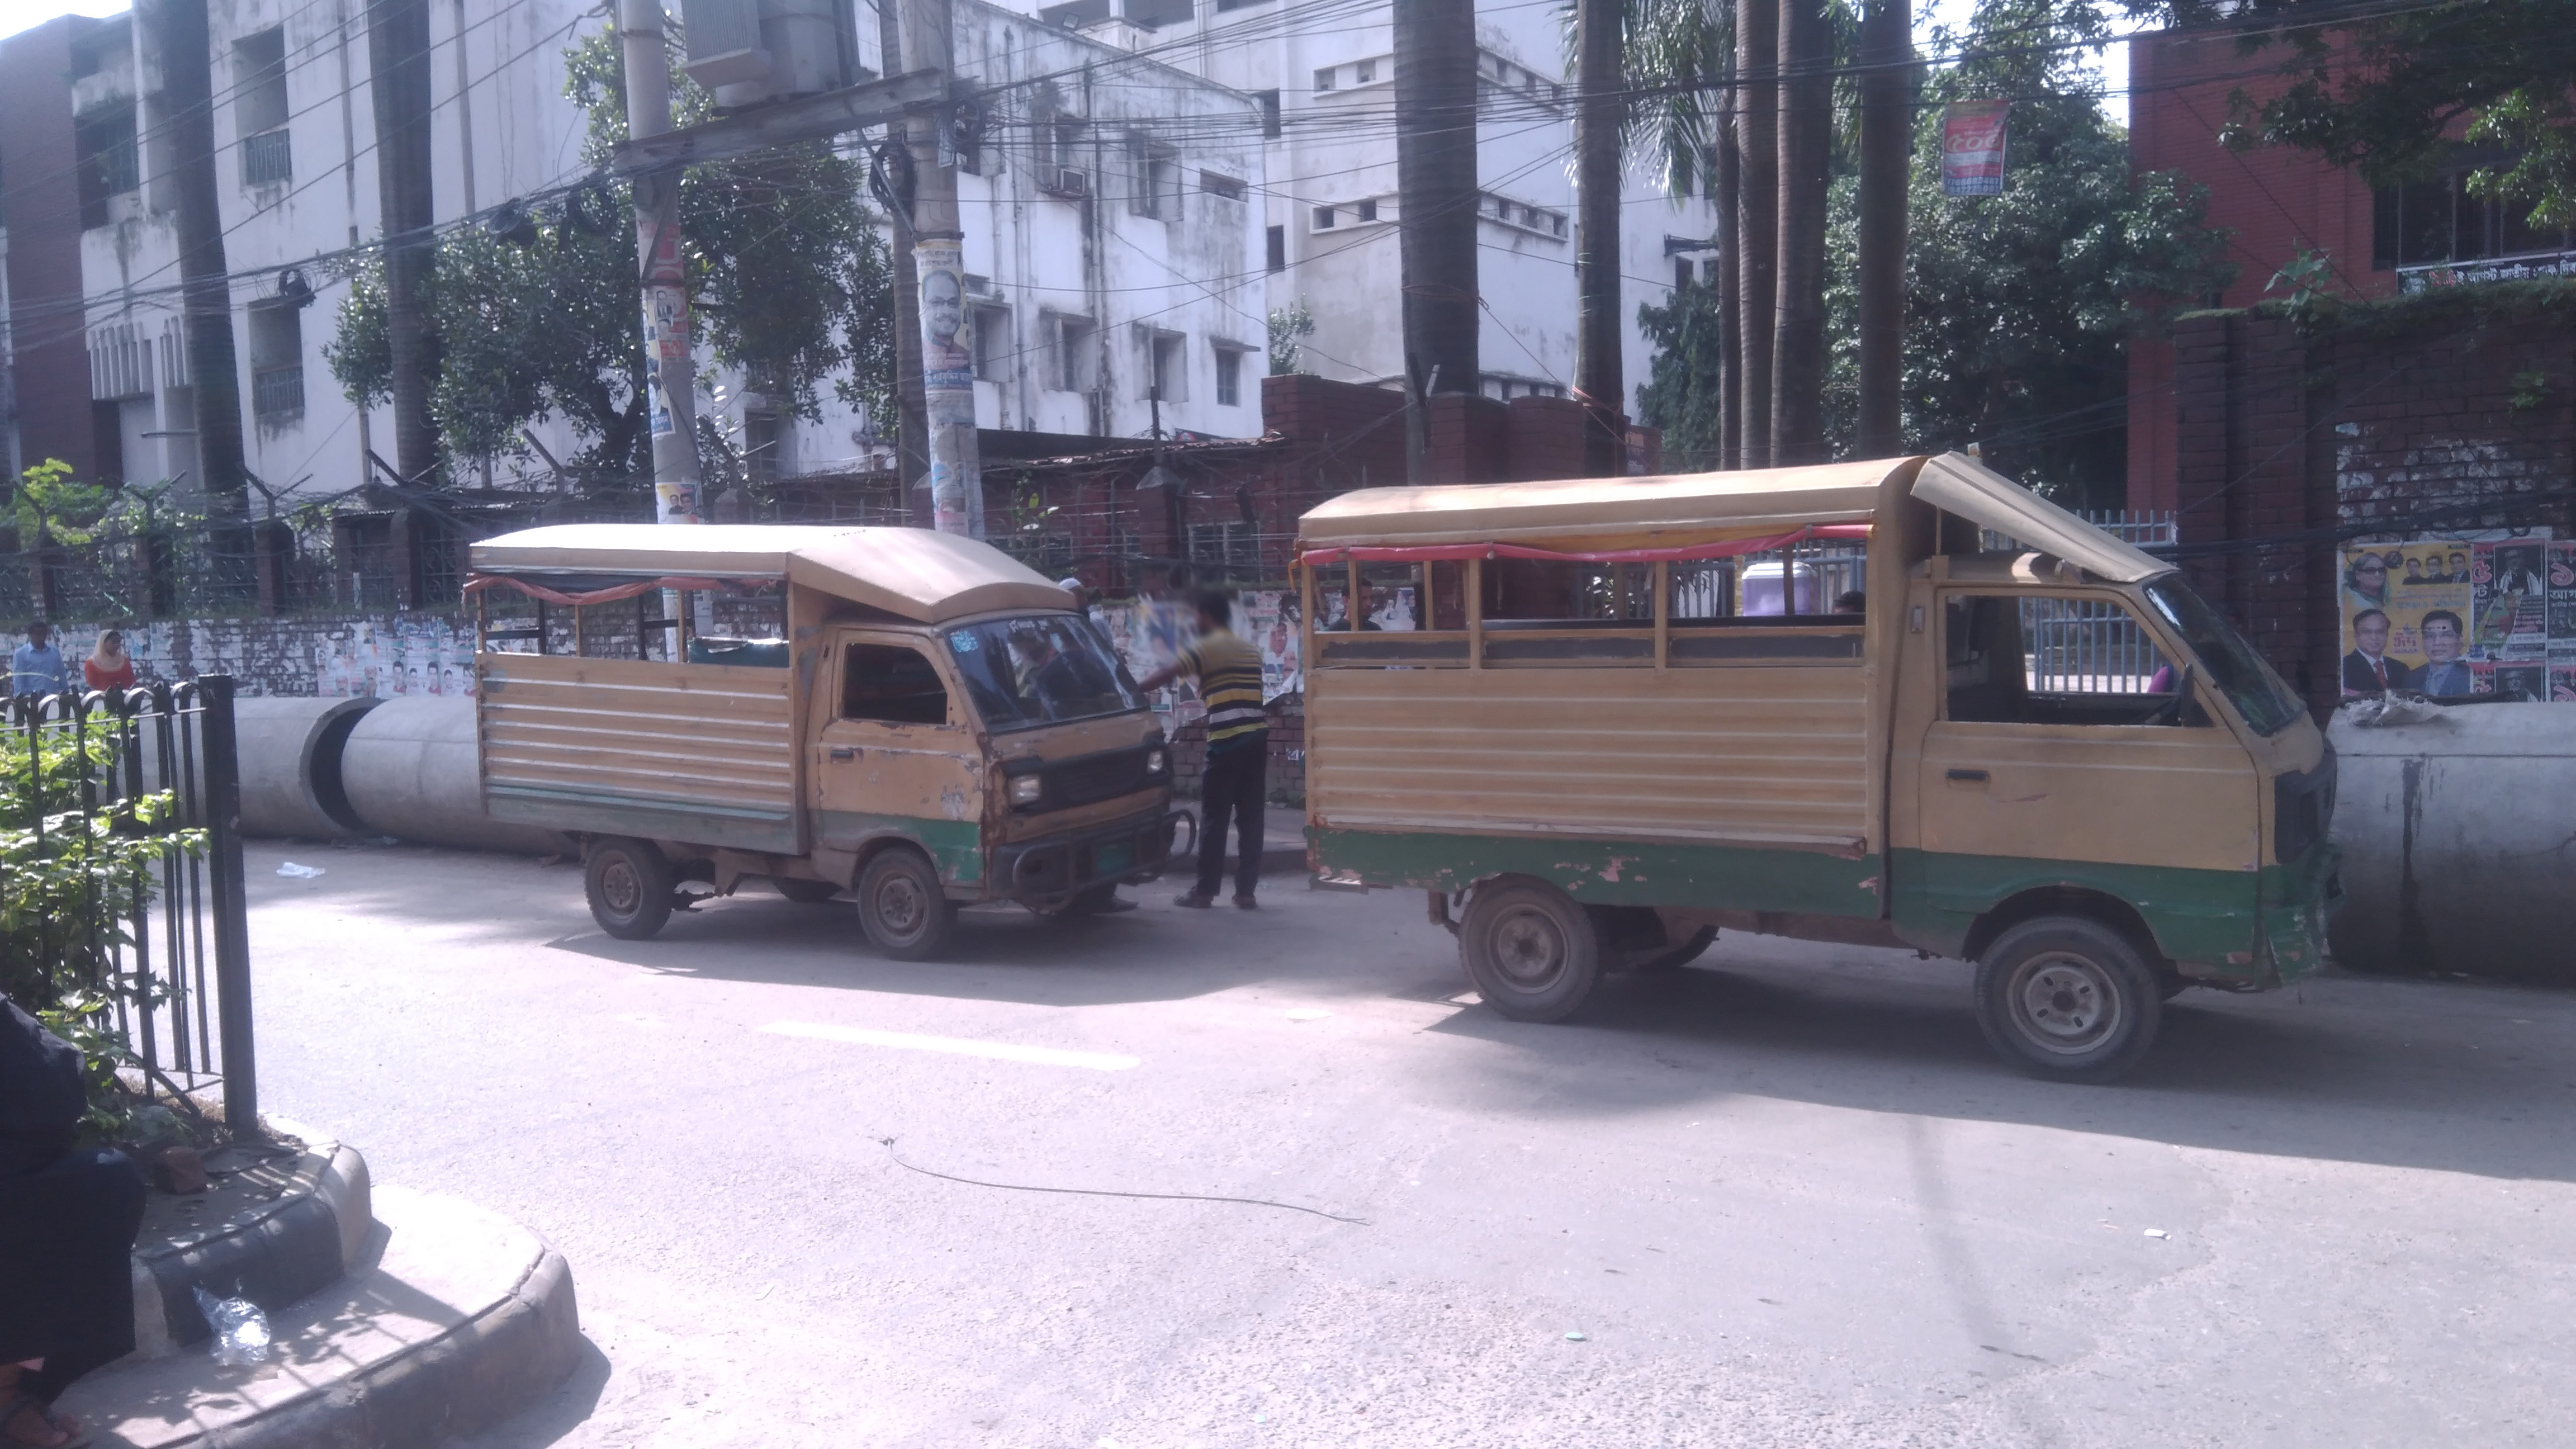leguna: (1263, 418, 2385, 1093), (442, 506, 1196, 968)
